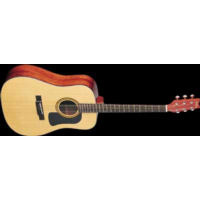guitar: (1, 66, 200, 137)
